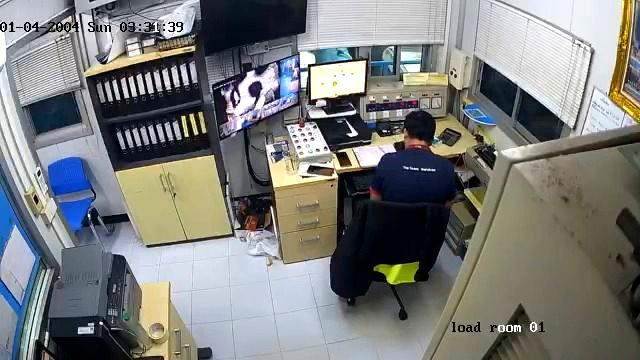Head: (404, 110, 435, 146)
People: (370, 110, 455, 206)
Phone: (307, 165, 333, 175), (336, 152, 351, 166)
